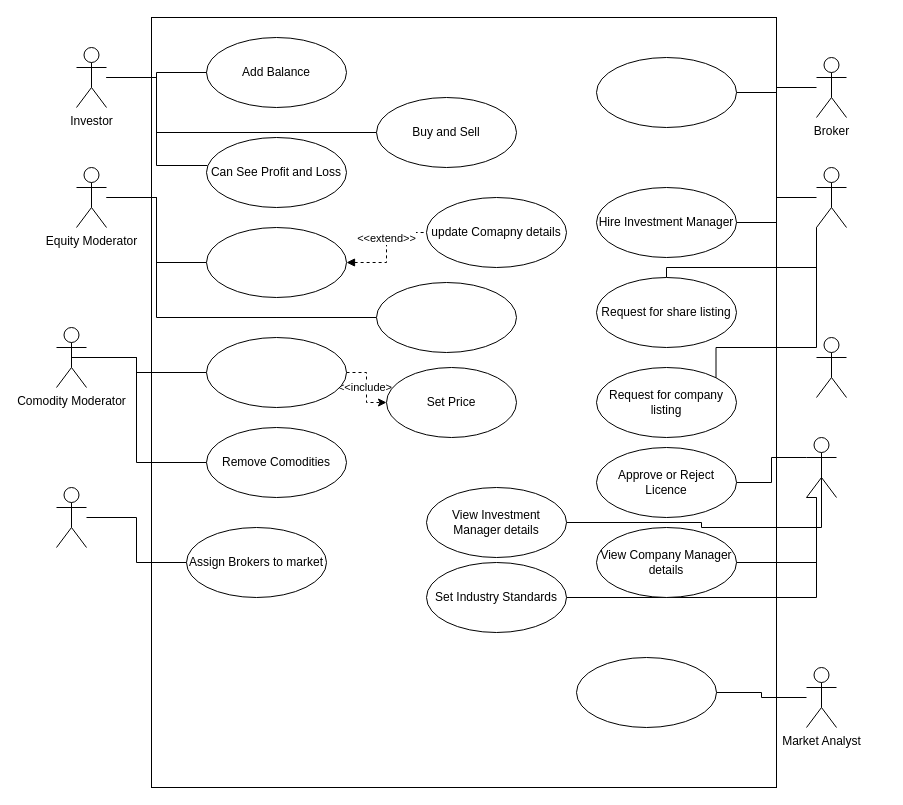
Image size: 903x805. Some labels were removed from this diagram. Each missing label, with the centre of its shape:
"Add Comodities" goes at [276,372].
"Approve and Reject investor requests" goes at [666,92].
"Approve and Reject Market listing" goes at [446,317].
"Broker admin" goes at [71,517].
"Company Manager" goes at [831,197].
"Establishment Manager" goes at [821,467].
"Investment Manager" goes at [831,367].
"Manage Market" goes at [276,262].
"Show market Trends" goes at [646,692].
